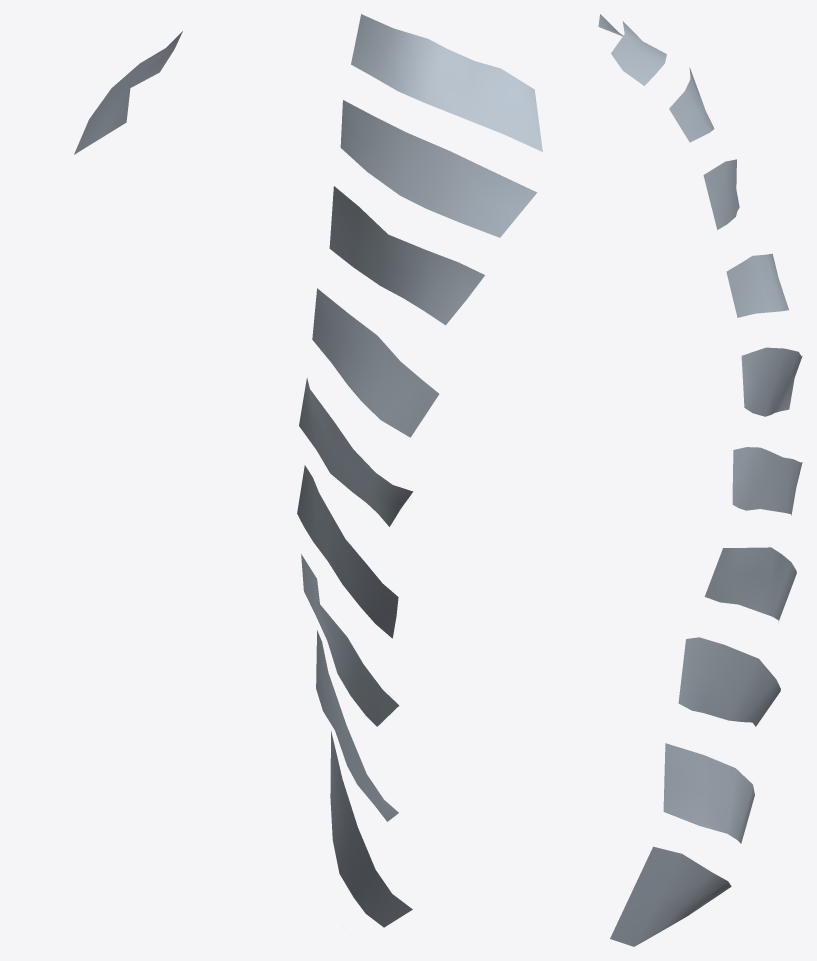
The model's file is internal-intercostal-membrane-r.glb.
The picture shows the model from 3 angles, left to right: view 1: azimuth 30°, elevation 25°; view 2: azimuth 150°, elevation 25°; view 3: azimuth 270°, elevation 25°; orthographic projection. The views are drawn at different scales.
Visible parts, largest first — view 1: Internal intercostal membrane.r; view 2: Internal intercostal membrane.r; view 3: Internal intercostal membrane.r.
Part boxes in pixels (x1,y1,x2,y2): Internal intercostal membrane.r: [74, 31, 182, 154]; Internal intercostal membrane.r: [297, 14, 542, 927]; Internal intercostal membrane.r: [598, 14, 802, 946].
Size of the model in its own units: 0.0668 by 0.2807 by 0.0656.
